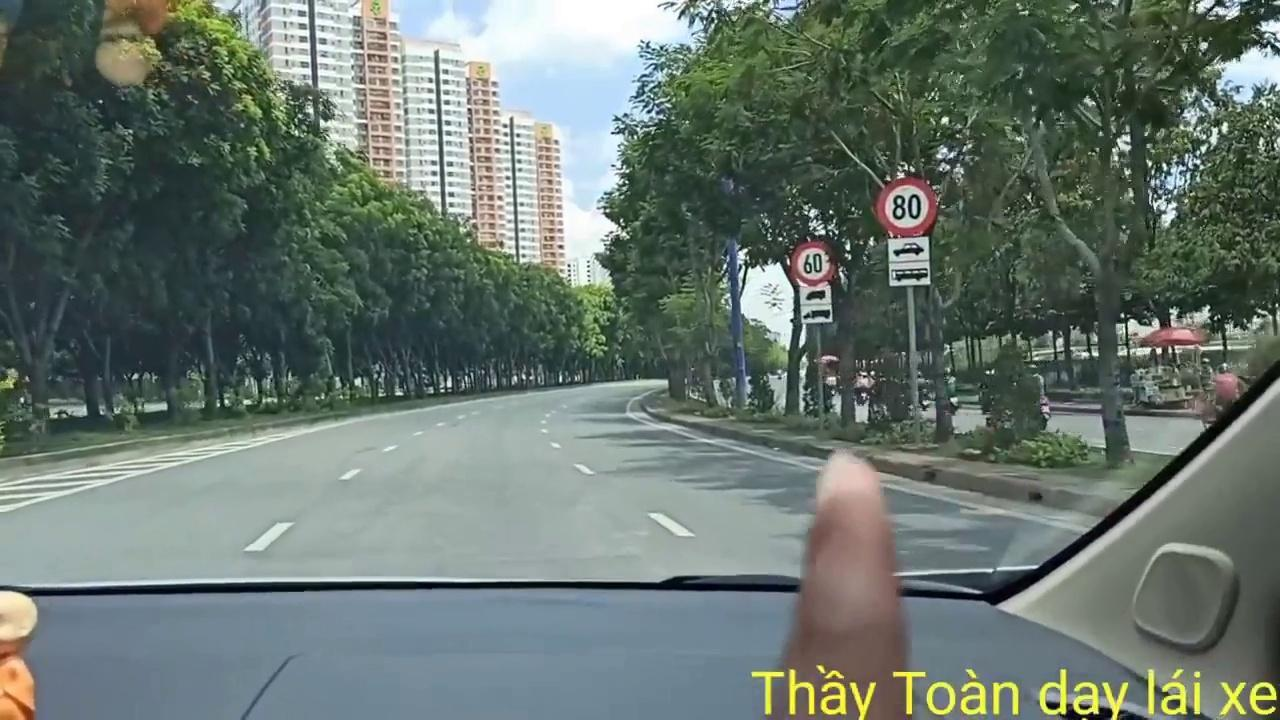Biển phụ: (888, 238, 931, 284), (799, 286, 831, 322)
GIơi hạn tốc độ 60Km/h: (789, 238, 836, 287)
Giới hạn tốc độ 80Km/h: (874, 174, 936, 237)
